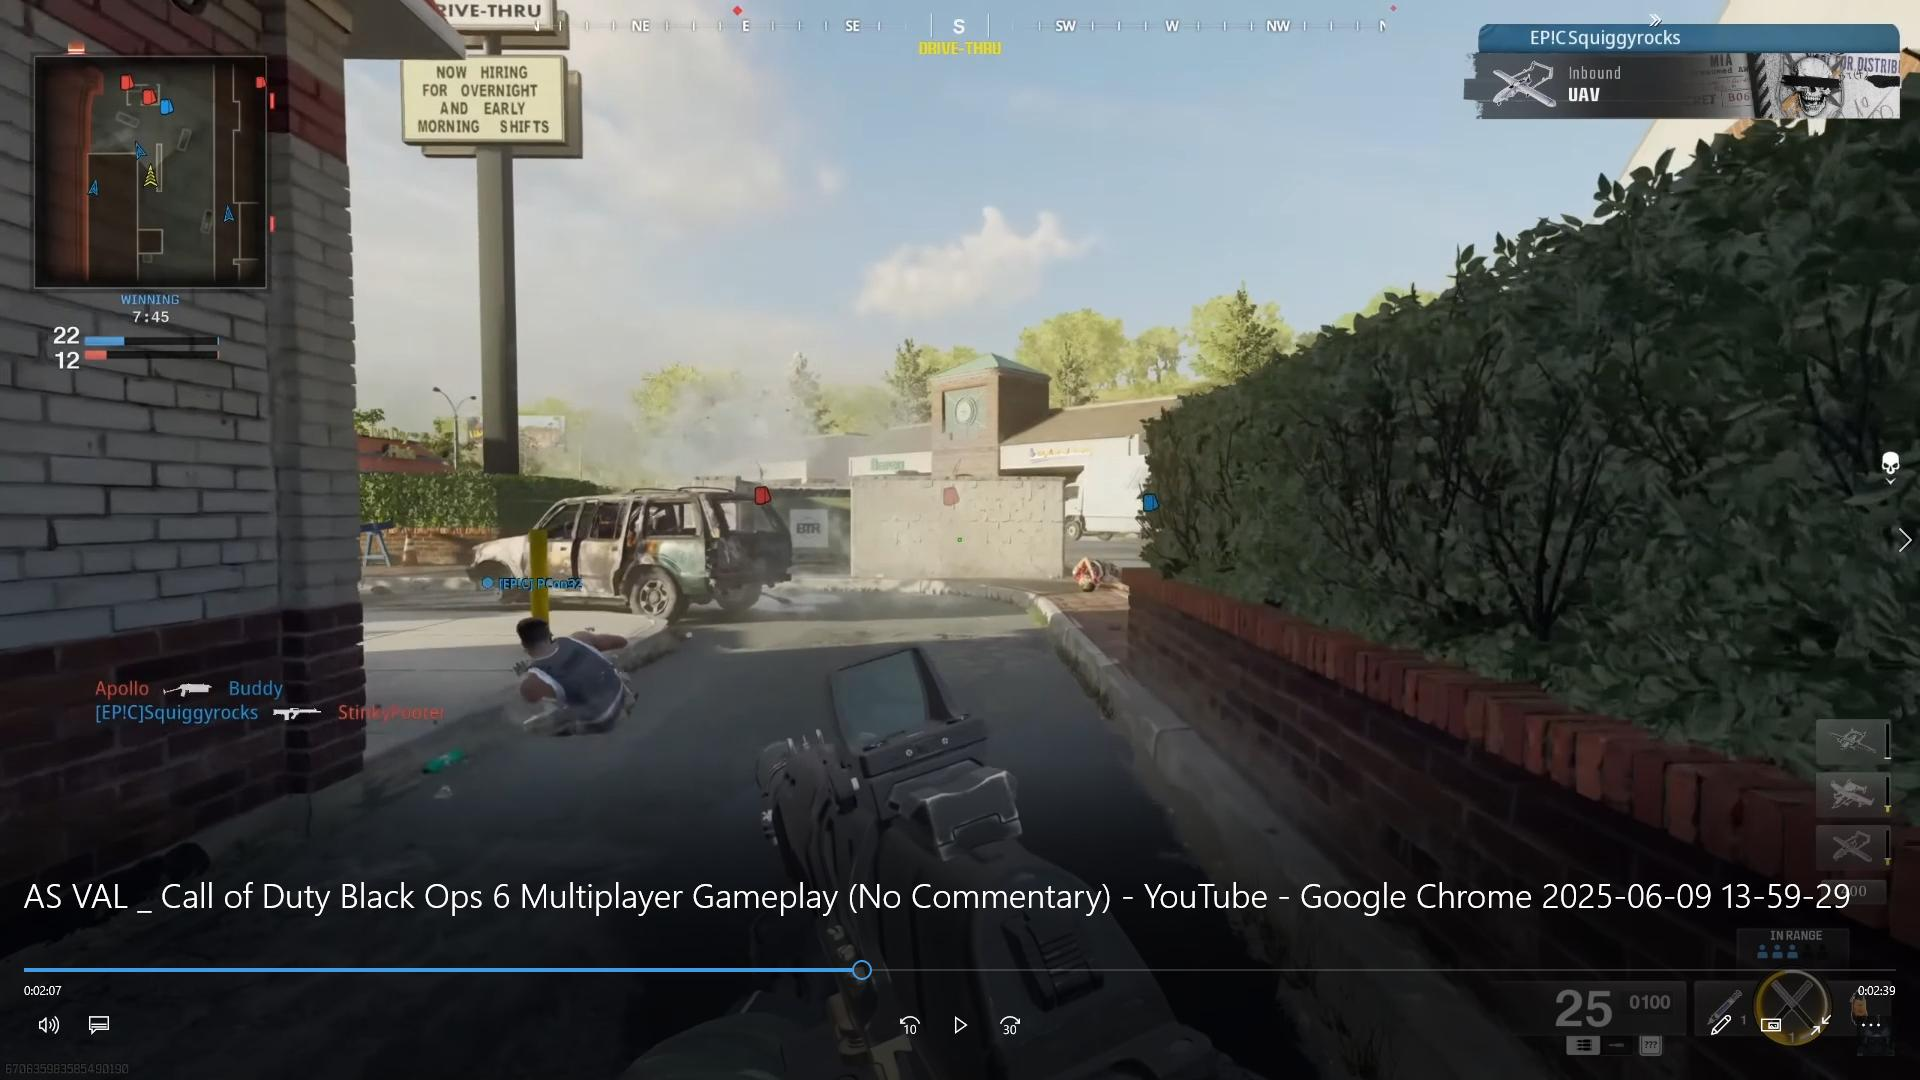Enemy: (496, 608, 641, 733)
